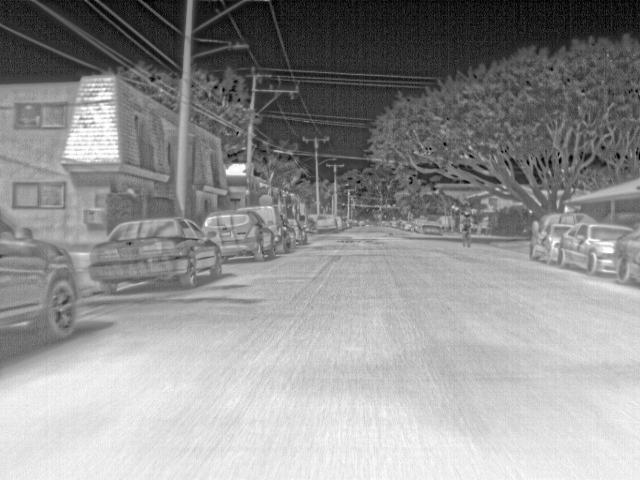car: (88, 216, 224, 295), (1, 212, 77, 341), (201, 210, 278, 263), (561, 223, 618, 275), (236, 206, 291, 254), (613, 230, 640, 287), (545, 220, 563, 264), (542, 211, 599, 222), (287, 218, 309, 244), (412, 214, 439, 233), (315, 214, 339, 233), (337, 218, 351, 230), (380, 218, 394, 230), (389, 218, 403, 230), (400, 218, 412, 230), (346, 218, 360, 228)
person: (529, 218, 545, 260), (461, 210, 477, 232)
